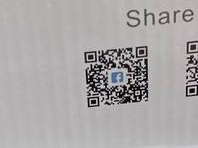2d: (84, 46, 149, 107)
